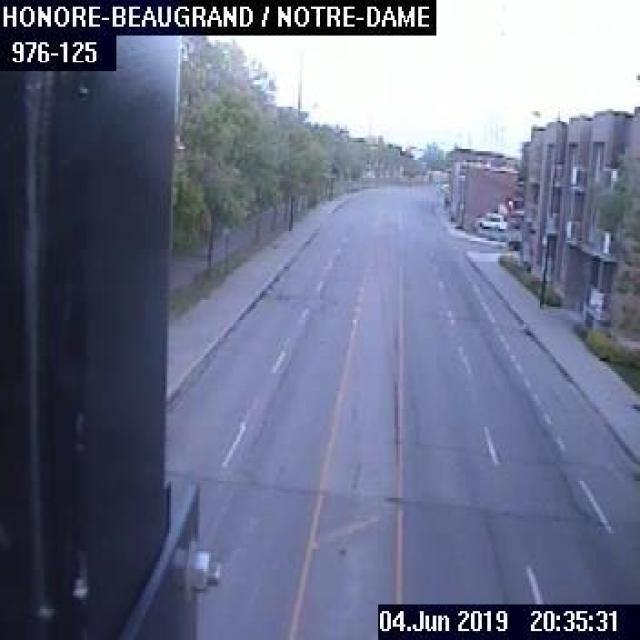vehicle: (474, 211, 506, 229)
